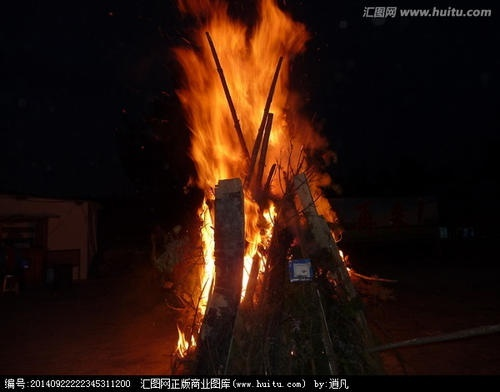fire: (241, 198, 278, 301), (195, 188, 217, 319), (175, 328, 197, 357)
